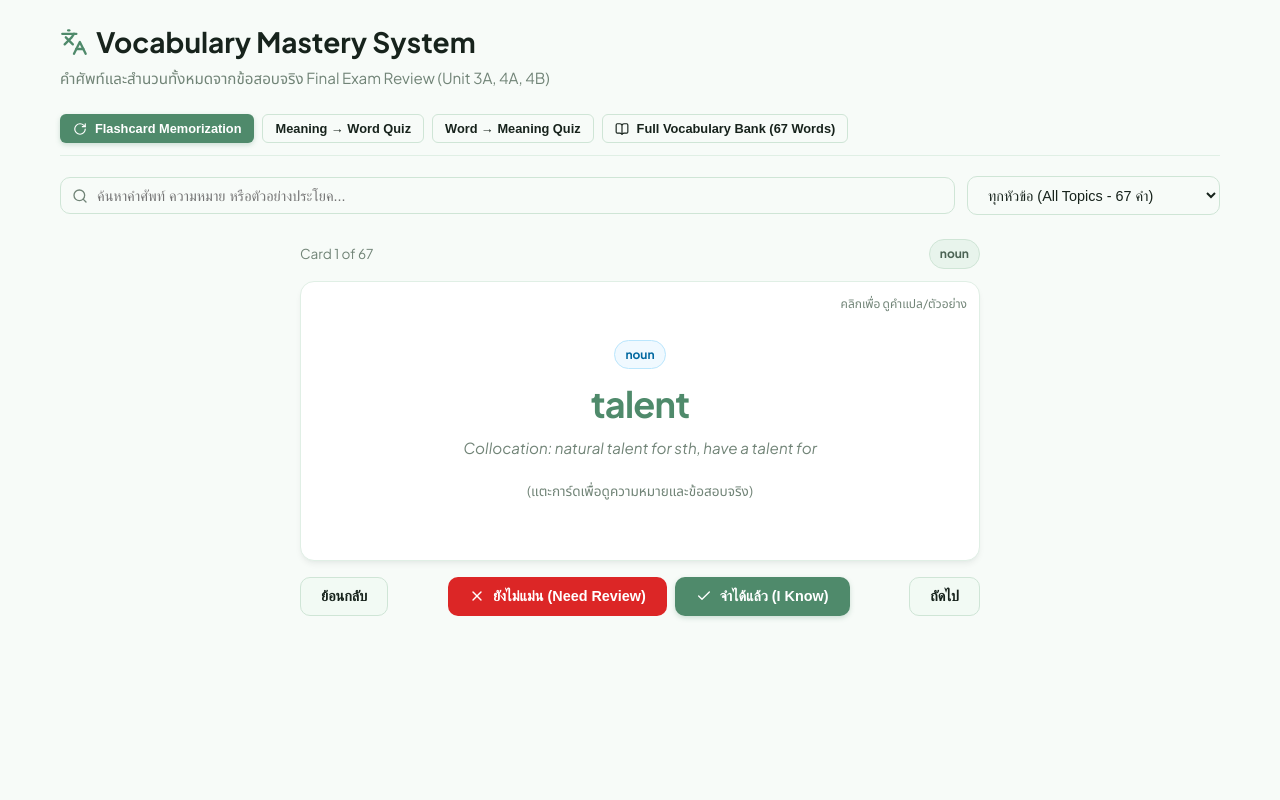
Test: VocabularyView — Quiz Regression Tests › TEST 6: Changing topic clears quiz feedback and shows first question
# Switch to quiz mode
Click the button "Meaning → Word Quiz": (343, 129) 262,114 -> 424,143
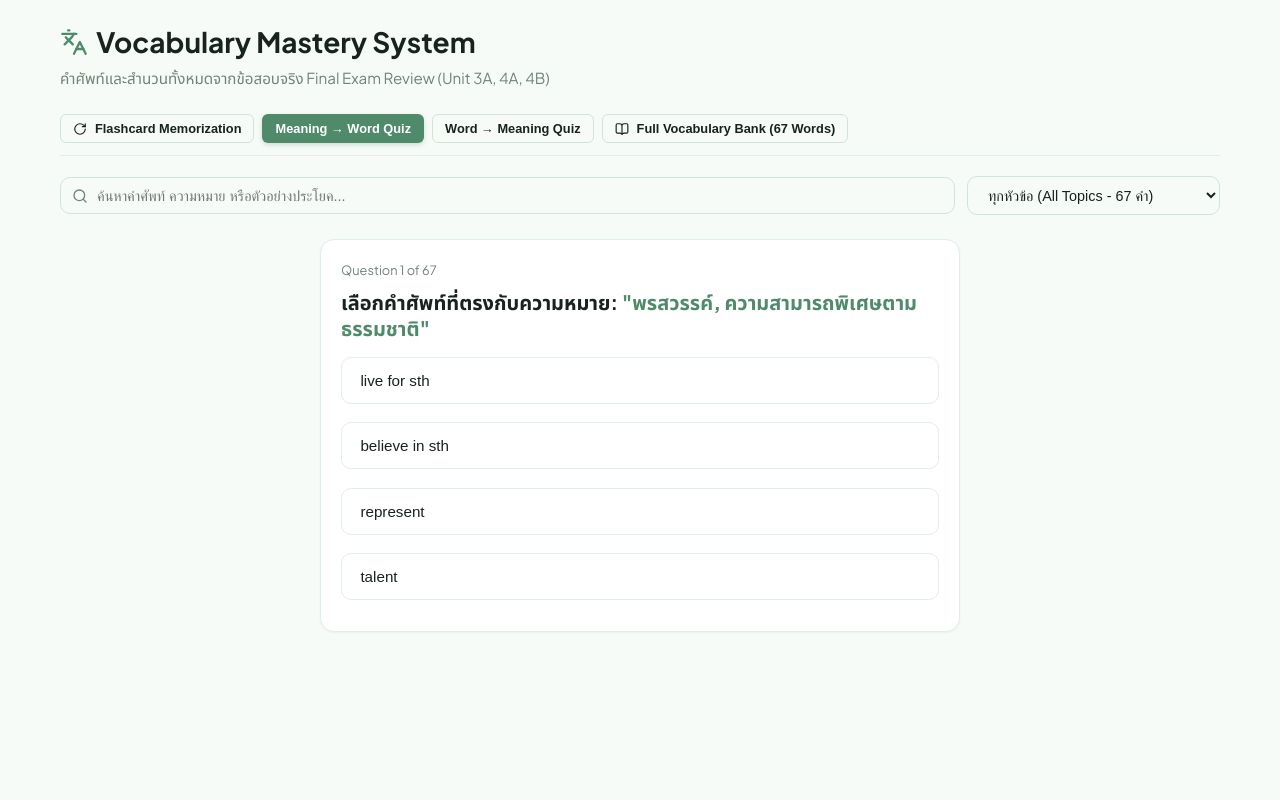
Click the button "live for sth": (395, 380) 341,357 -> 939,404
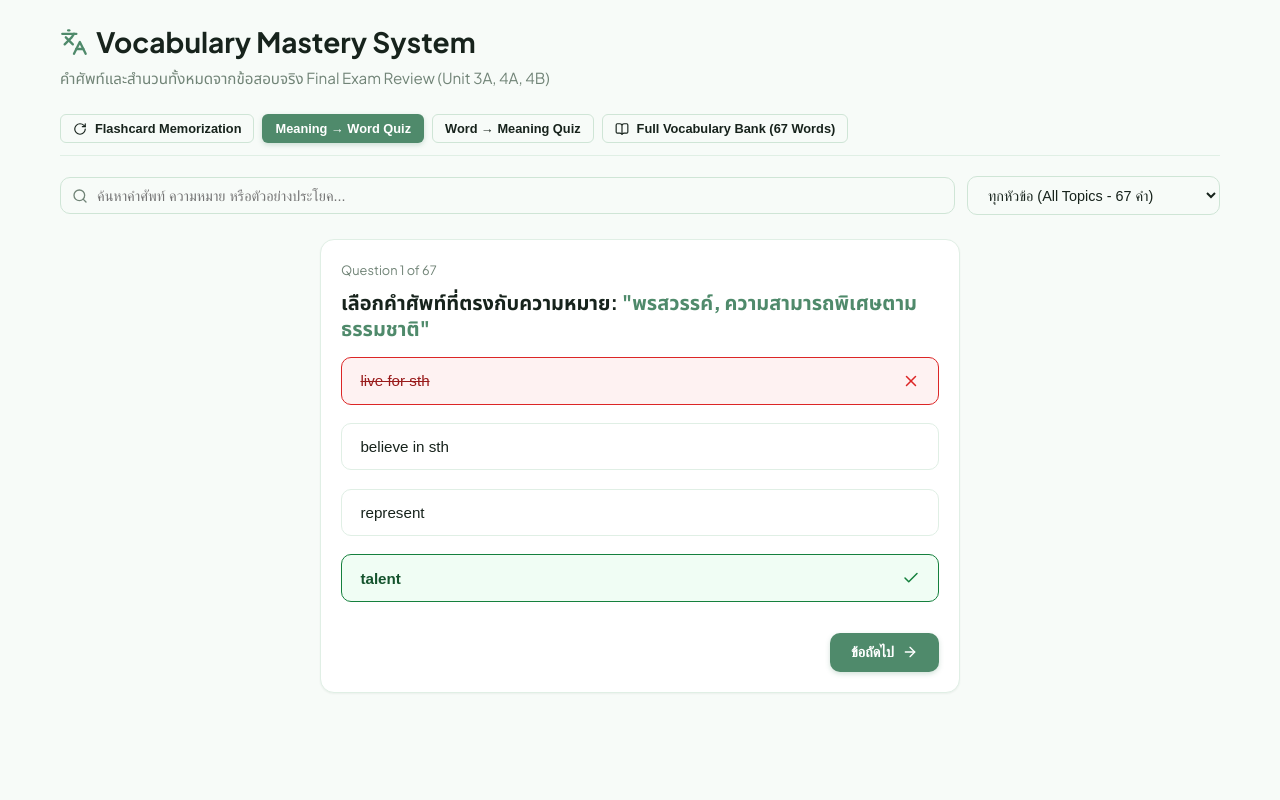
Check: the button "ข้อถัดไป" is shown, box 830,632 -> 939,672
# Change topic filter
Select "Unit 3A: Ability & Achievement" in the dropdown showing "ทุกหัวข้อ": (1094, 196) 967,176 -> 1220,216
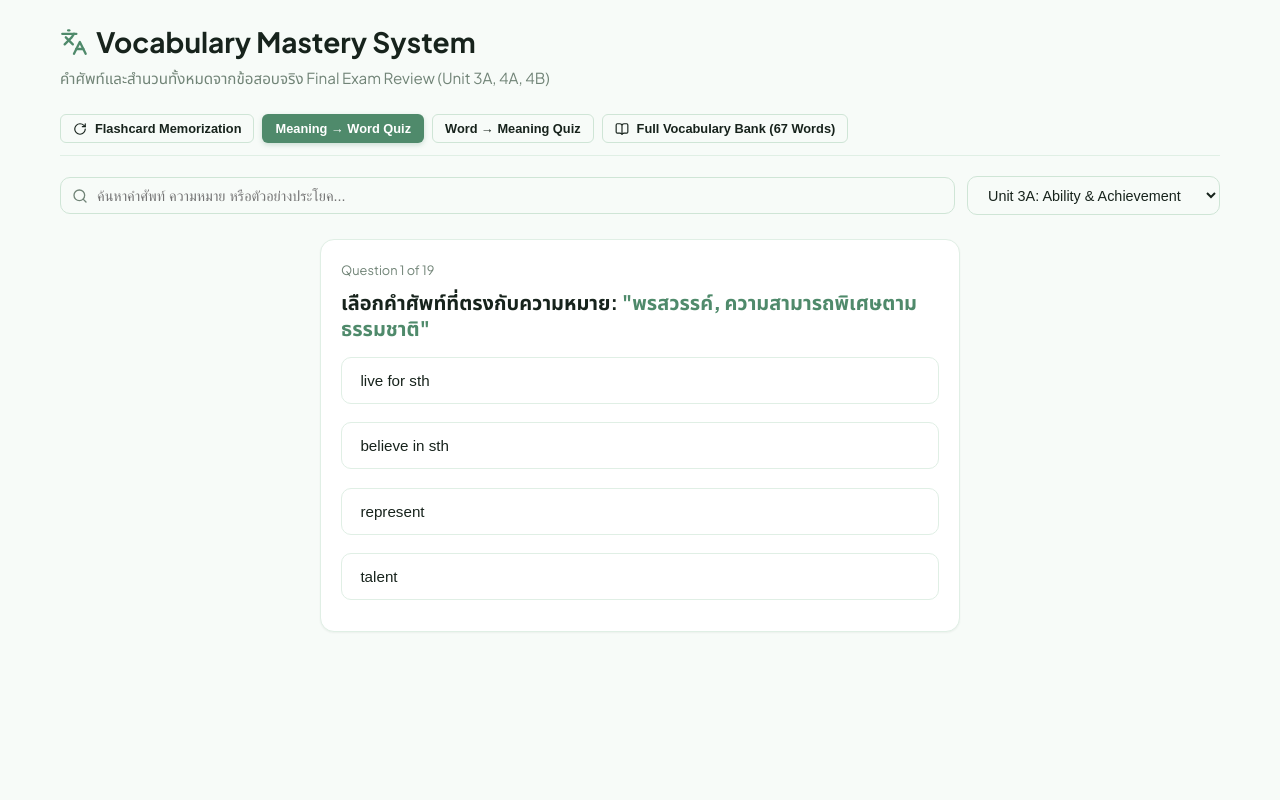
Check: the button "ข้อถัดไป" is gone
